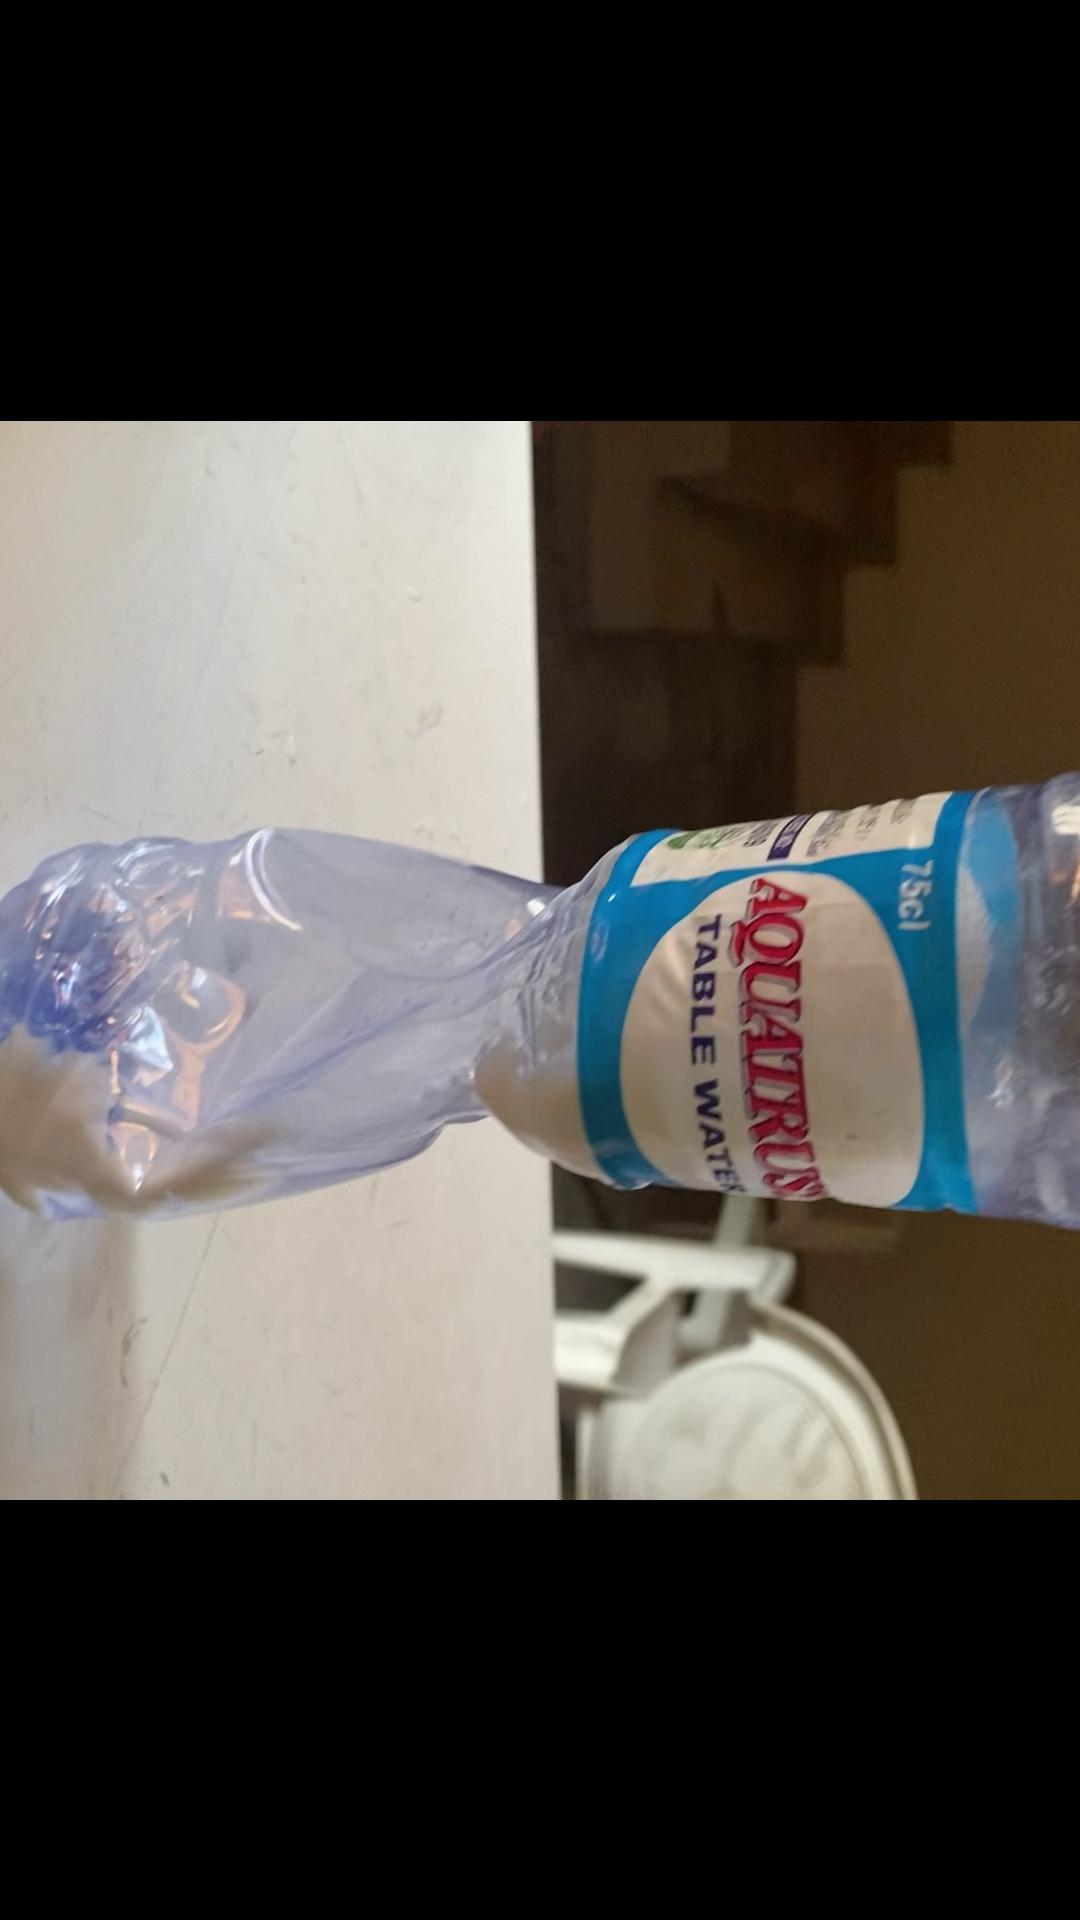crumbled: (0, 758, 1080, 1237)
label: (588, 787, 969, 1199)
